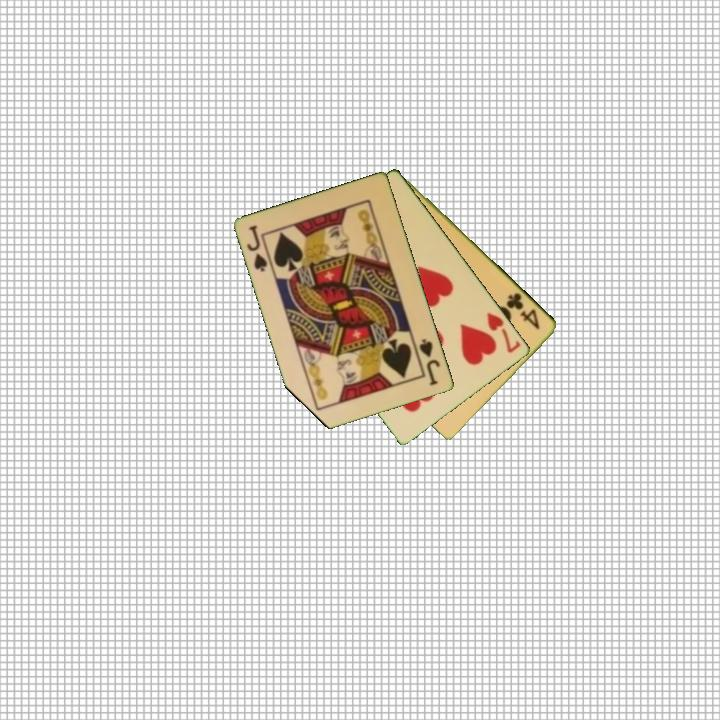4c: (503, 289, 543, 332)
7h: (483, 309, 524, 356)
Js: (416, 335, 443, 389), (244, 222, 271, 275)
